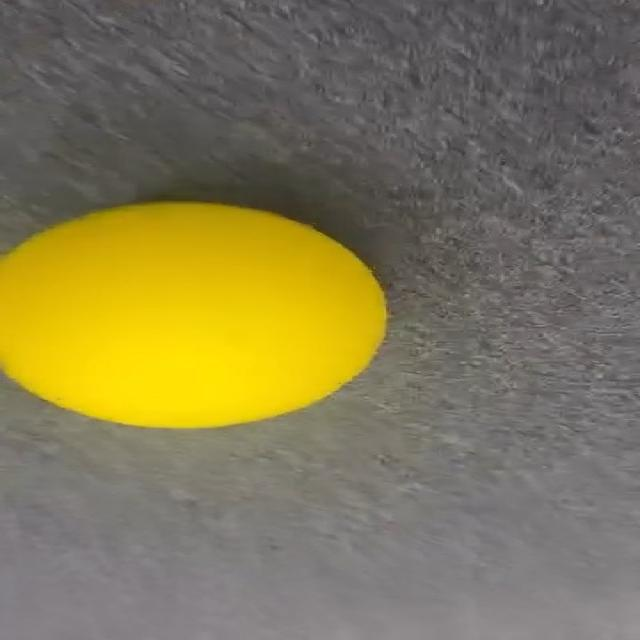Fuels: (0, 203, 384, 427)
